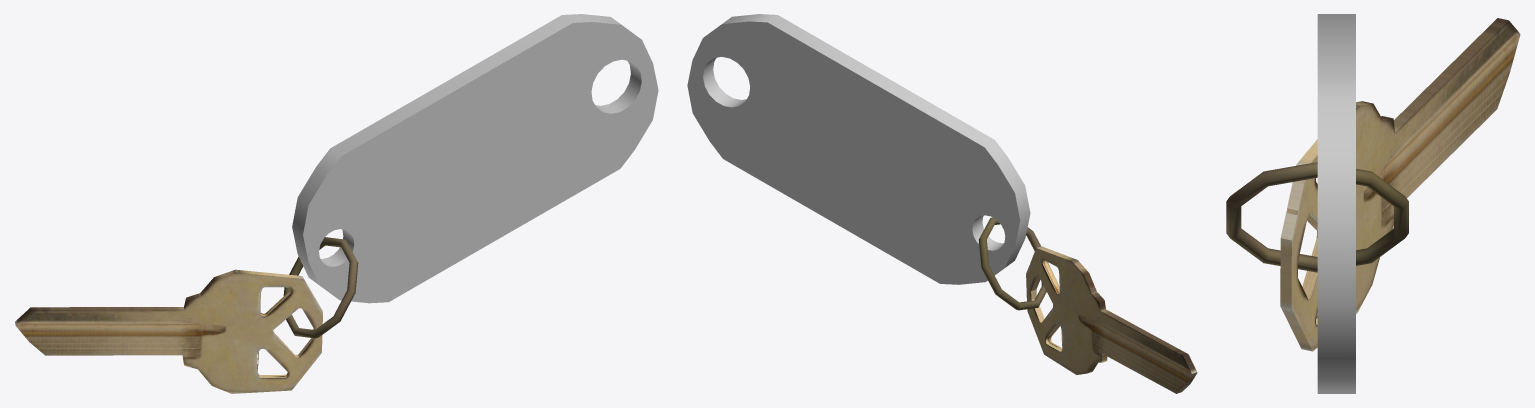
File: employee_key.fbx
The picture shows the model from 3 angles, left to right: view 1: azimuth 30°, elevation 25°; view 2: azimuth 150°, elevation 25°; view 3: azimuth 270°, elevation 25°; orthographic projection. The views are drawn at different scales.
Visible parts, largest first — view 1: snuff_key; view 2: snuff_key; view 3: snuff_key.
Part boxes in pixels (left/top/right/bottom): snuff_key: left=15, top=14, right=658, bottom=393; snuff_key: left=687, top=14, right=1197, bottom=393; snuff_key: left=1226, top=14, right=1520, bottom=393.
Bounding box in the file's own units: 55.51 × 26.65 × 13.72.
